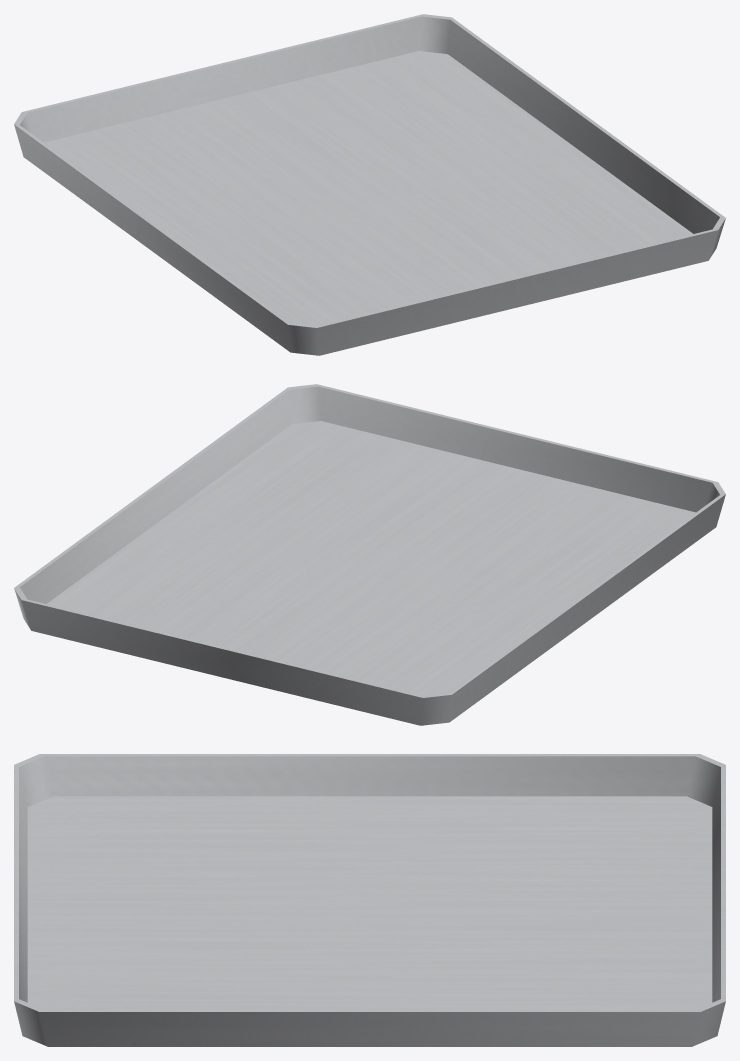
File: tray.glb
The picture shows the model from 3 angles, top to bottom: view 1: azimuth 30°, elevation 25°; view 2: azimuth 150°, elevation 25°; view 3: azimuth 270°, elevation 25°; orthographic projection. The views are drawn at different scales.
Visible parts, largest first — view 1: t1_tray; view 2: t1_tray; view 3: t1_tray.
Boxes of the visible parts, left/top/right/bottom form: t1_tray: left=14, top=14, right=725, bottom=355; t1_tray: left=14, top=384, right=725, bottom=725; t1_tray: left=14, top=754, right=725, bottom=1046.
Bounding box in the file's own units: 0.36 × 0.025 × 0.42.
Materials: 1 (1 with a texture image).
